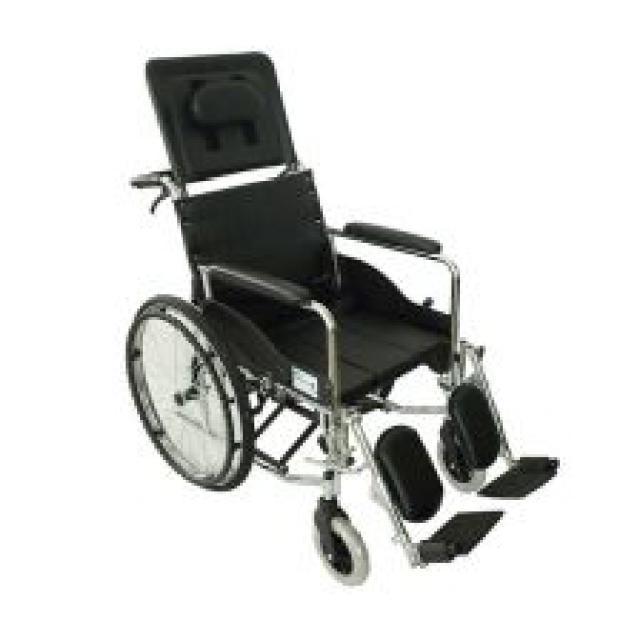wheelchairs: (130, 52, 562, 588)
